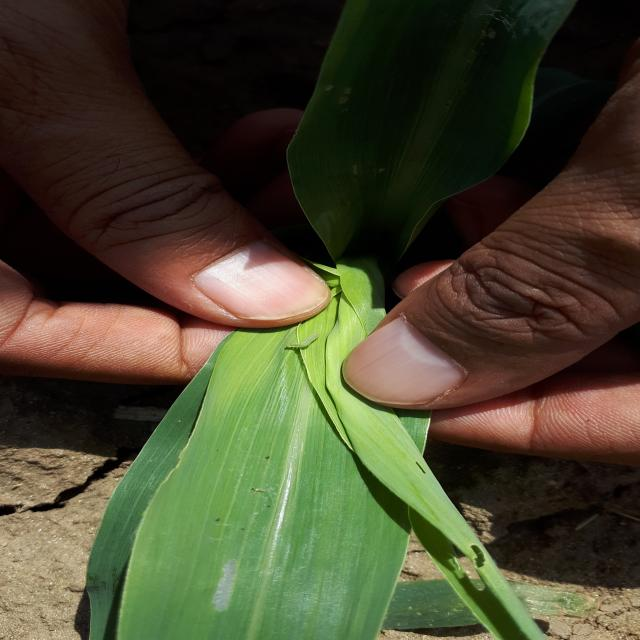armyworm: (284, 332, 324, 354)
